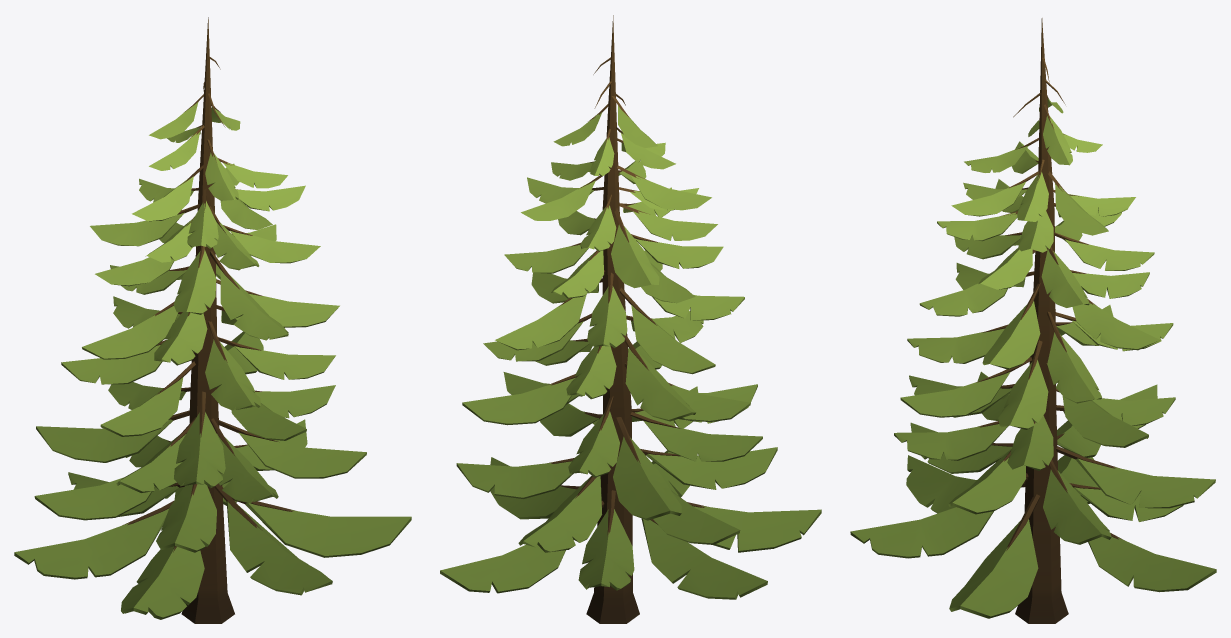
File: Spring_Tree_05.glb
3 views of the same model, side by side, from view 1: azimuth 30°, elevation 25°; view 2: azimuth 150°, elevation 25°; view 3: azimuth 270°, elevation 25° (orthographic).
Parts seen in each view (by area): view 1: Spring_Tree_05_LOD0; view 2: Spring_Tree_05_LOD0; view 3: Spring_Tree_05_LOD0.
Part boxes in pixels (x1,y1,x2,y2): Spring_Tree_05_LOD0: [14, 17, 411, 623]; Spring_Tree_05_LOD0: [440, 15, 821, 623]; Spring_Tree_05_LOD0: [850, 18, 1216, 623].
Size of what is drawn, in the model's own units: 4.32 by 7.35 by 4.07.
1 material, 1 textured.
